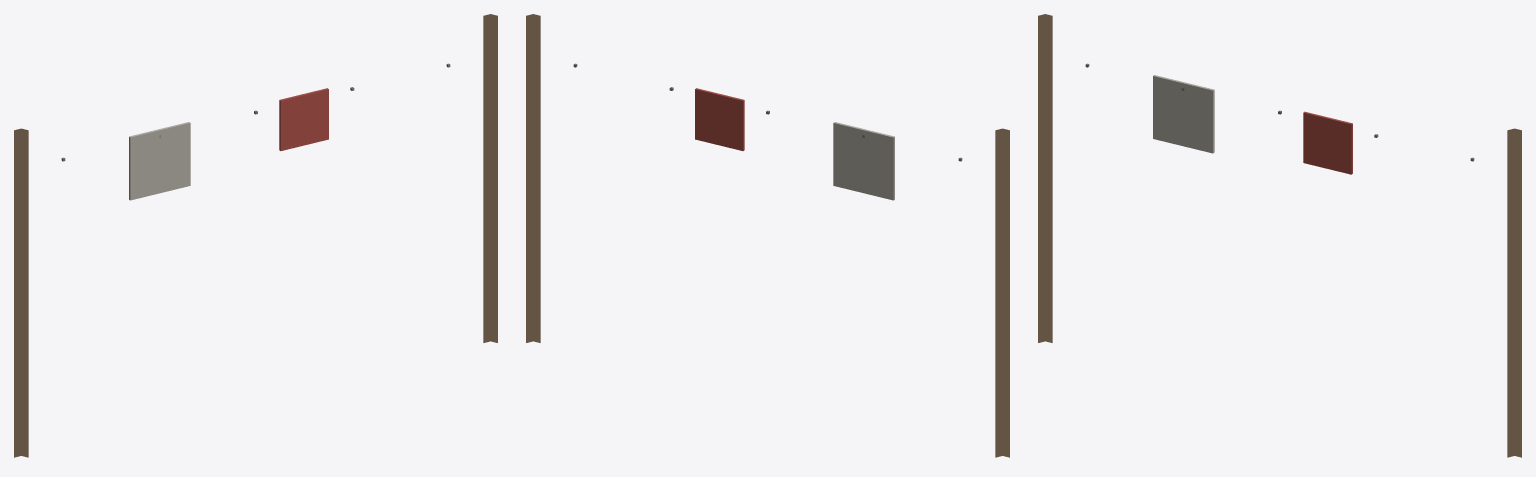
The model's file is p_clothesline.glb.
3 renders of one model, left to right at view 1: azimuth 30°, elevation 25°; view 2: azimuth 150°, elevation 25°; view 3: azimuth 330°, elevation 25°, orthographic.
Parts seen in each view (by area): view 1: body; view 2: body; view 3: body.
Part boxes in pixels (<box>): body: <box>14,14,497,457</box>; body: <box>526,14,1009,457</box>; body: <box>1038,14,1521,457</box>.
Bounding box in the file's own units: 4.02 × 2.6 × 0.1039.
